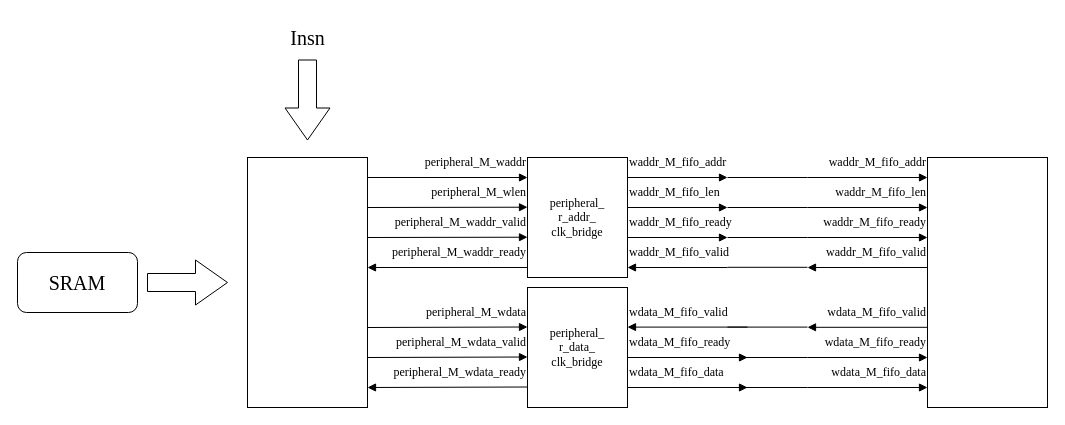
Some shapes in this 1065 by 425 pixel diagram are drawn without their labels. Here are the shapes that lost their labels. From the top down, the centre of each, then its label:
[307,282]: store insn
[987,282]: axi4_full_ master_write_ interface
